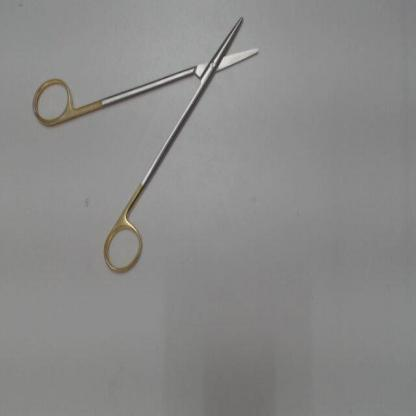7 Metzenbaum Scissors: (28, 6, 264, 279)
